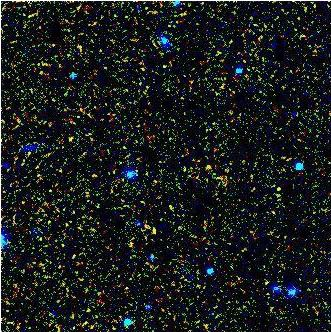star: (139, 215, 169, 245)
